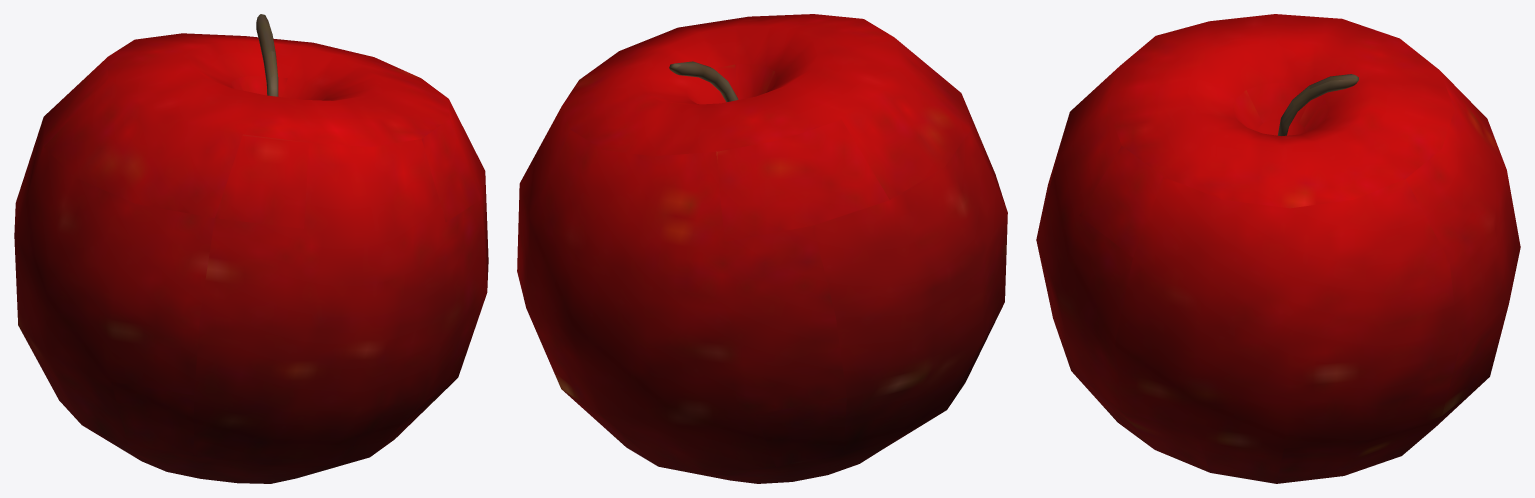
The model's file is SM_配餐室_水果蔬菜_03.fbx.
3 views of the same model, side by side, from view 1: azimuth 30°, elevation 25°; view 2: azimuth 150°, elevation 25°; view 3: azimuth 270°, elevation 25° (orthographic).
Visible parts, largest first — view 1: SM_配餐室_水果蔬菜_03; view 2: SM_配餐室_水果蔬菜_03; view 3: SM_配餐室_水果蔬菜_03.
Part boxes in pixels (x1,y1,x2,y2): SM_配餐室_水果蔬菜_03: [14, 14, 488, 483]; SM_配餐室_水果蔬菜_03: [517, 14, 1007, 483]; SM_配餐室_水果蔬菜_03: [1036, 14, 1520, 483].
Size of the model in its own units: 54.32 by 49.69 by 54.09.
